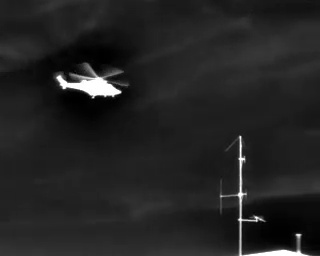HELICOPTER: (54, 58, 132, 106)
